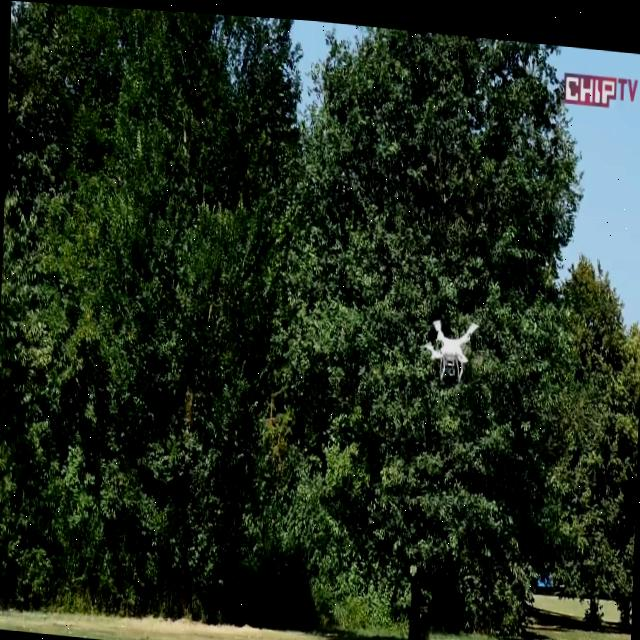drone: (422, 308, 478, 380)
